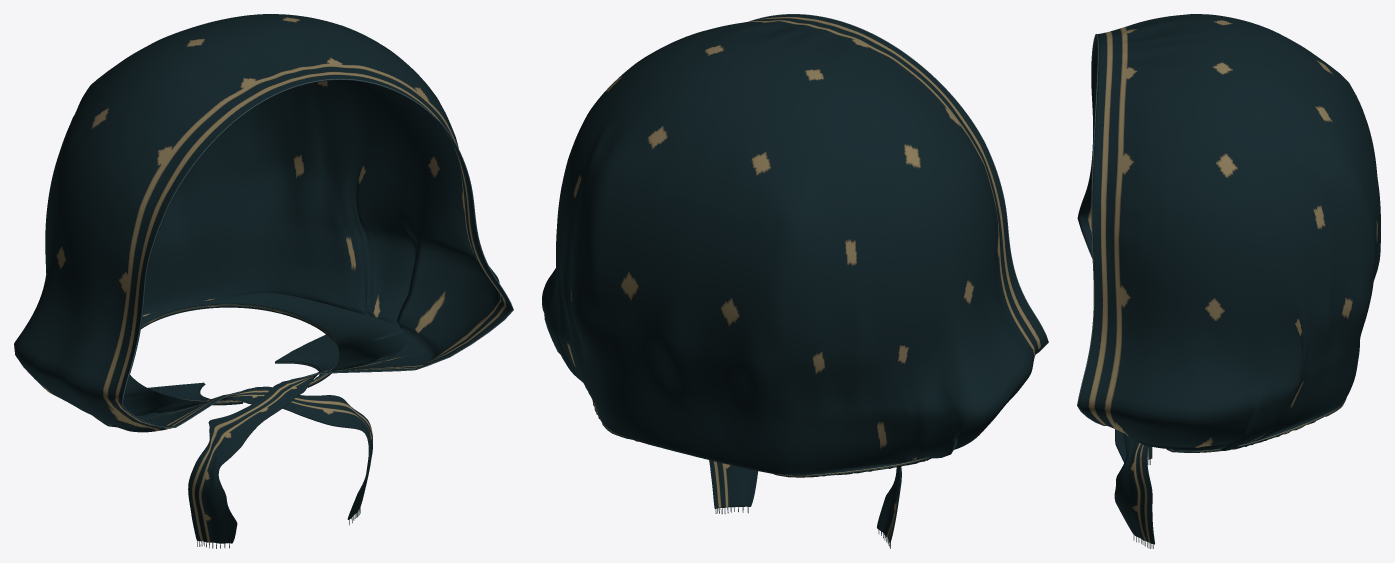
The model's file is Feminine-box-braids-strappy-pashmina249-headgear.glb.
3 views of the same model, side by side, from view 1: azimuth 30°, elevation 25°; view 2: azimuth 150°, elevation 25°; view 3: azimuth 270°, elevation 25° (orthographic). The views are drawn at different scales.
Parts seen in each view (by area): view 1: 226 headgear / Headwear / continuous woven pashmina239, 226 headgear / Headwear / face edge239; view 2: 226 headgear / Headwear / continuous woven pashmina239, 226 headgear / Headwear / face edge239; view 3: 226 headgear / Headwear / continuous woven pashmina239, 226 headgear / Headwear / face edge239.
Part boxes in pixels (bbox=[...]): 226 headgear / Headwear / continuous woven pashmina239: bbox=[14, 14, 512, 543]; 226 headgear / Headwear / face edge239: bbox=[121, 78, 513, 427]; 226 headgear / Headwear / continuous woven pashmina239: bbox=[542, 14, 1047, 542]; 226 headgear / Headwear / face edge239: bbox=[749, 14, 1048, 353]; 226 headgear / Headwear / continuous woven pashmina239: bbox=[1077, 14, 1380, 544]; 226 headgear / Headwear / face edge239: bbox=[1077, 34, 1105, 425].
Size of the model in its own units: 1.33 by 1.38 by 0.8073.
Materials: 3 (1 with a texture image).
